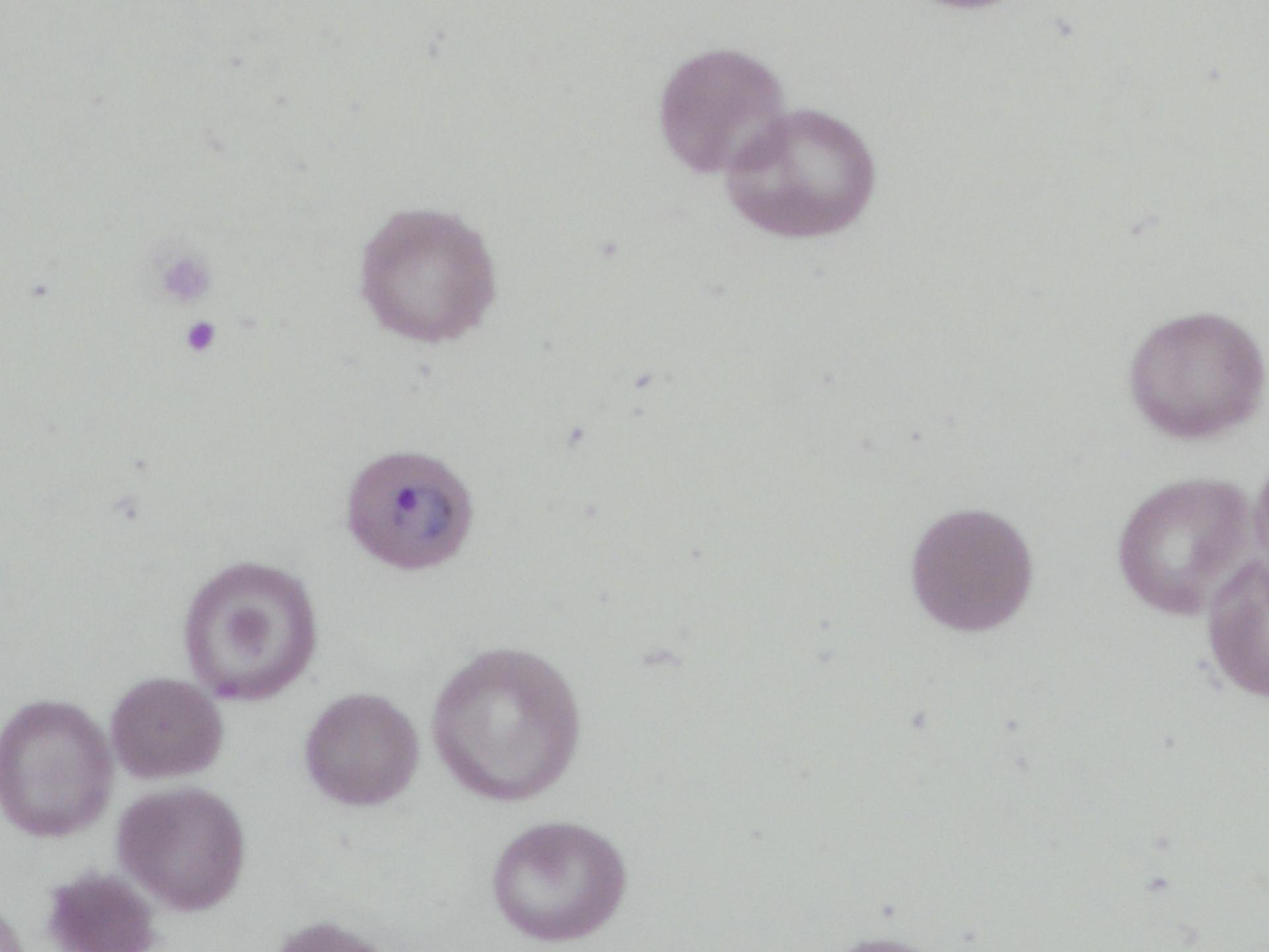Infected: (348, 459, 474, 569)
Uninfected: (436, 642, 579, 804), (726, 110, 874, 236), (184, 563, 316, 697), (362, 211, 493, 340), (1118, 482, 1247, 610), (1130, 313, 1261, 433), (492, 821, 624, 939), (0, 705, 118, 834), (117, 790, 243, 909), (662, 52, 783, 171), (916, 512, 1031, 630), (306, 697, 414, 803), (112, 680, 221, 780), (49, 875, 155, 952)
